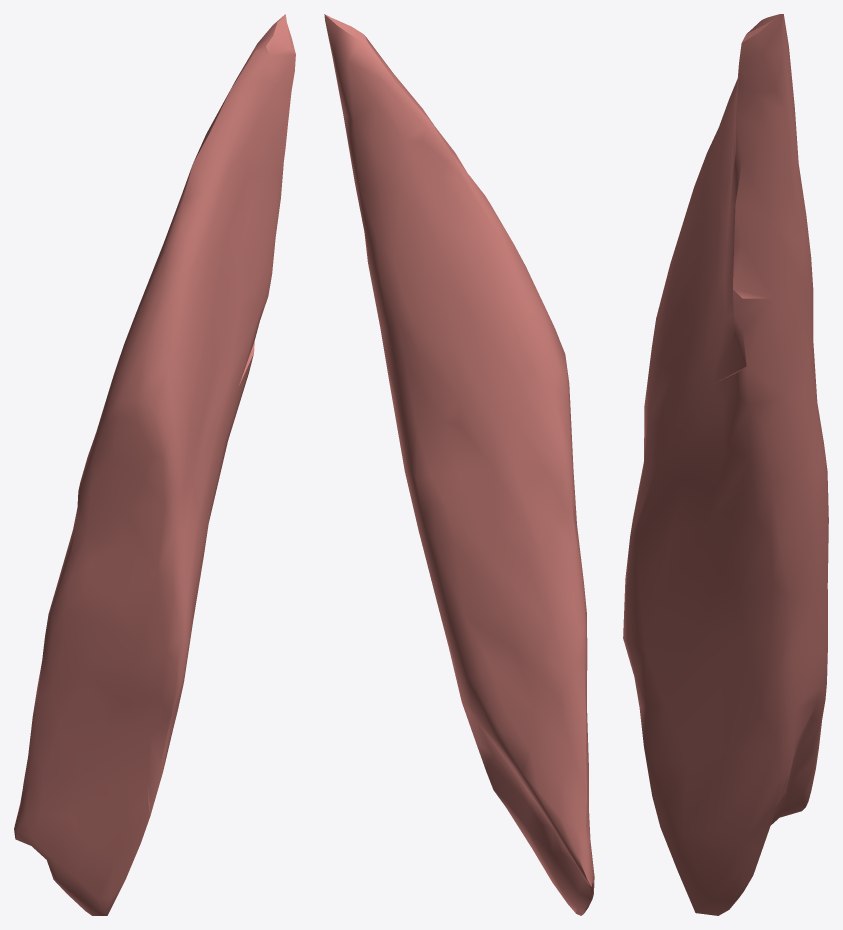
File: fma40694-n_mm1814.glb
3 views of the same model, side by side, from view 1: azimuth 30°, elevation 25°; view 2: azimuth 150°, elevation 25°; view 3: azimuth 270°, elevation 25° (orthographic). The views are drawn at different scales.
Visible parts, largest first — view 1: FMA40694-N_MM1814; view 2: FMA40694-N_MM1814; view 3: FMA40694-N_MM1814.
Boxes of the visible parts, bbox=[...] form: FMA40694-N_MM1814: bbox=[14, 14, 295, 915]; FMA40694-N_MM1814: bbox=[324, 14, 594, 915]; FMA40694-N_MM1814: bbox=[623, 14, 828, 915].
Bounding box in the file's own units: 0.0198 × 0.0596 × 0.0107.
